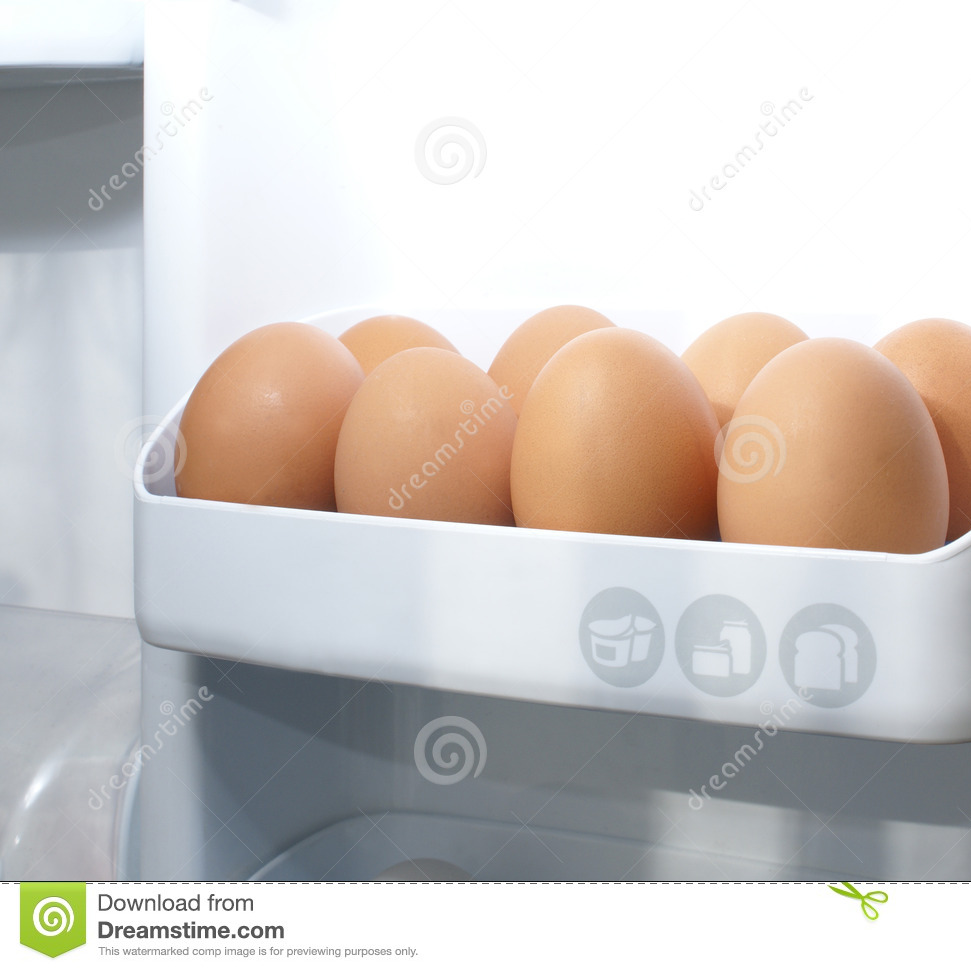egg: (139, 301, 970, 580)
